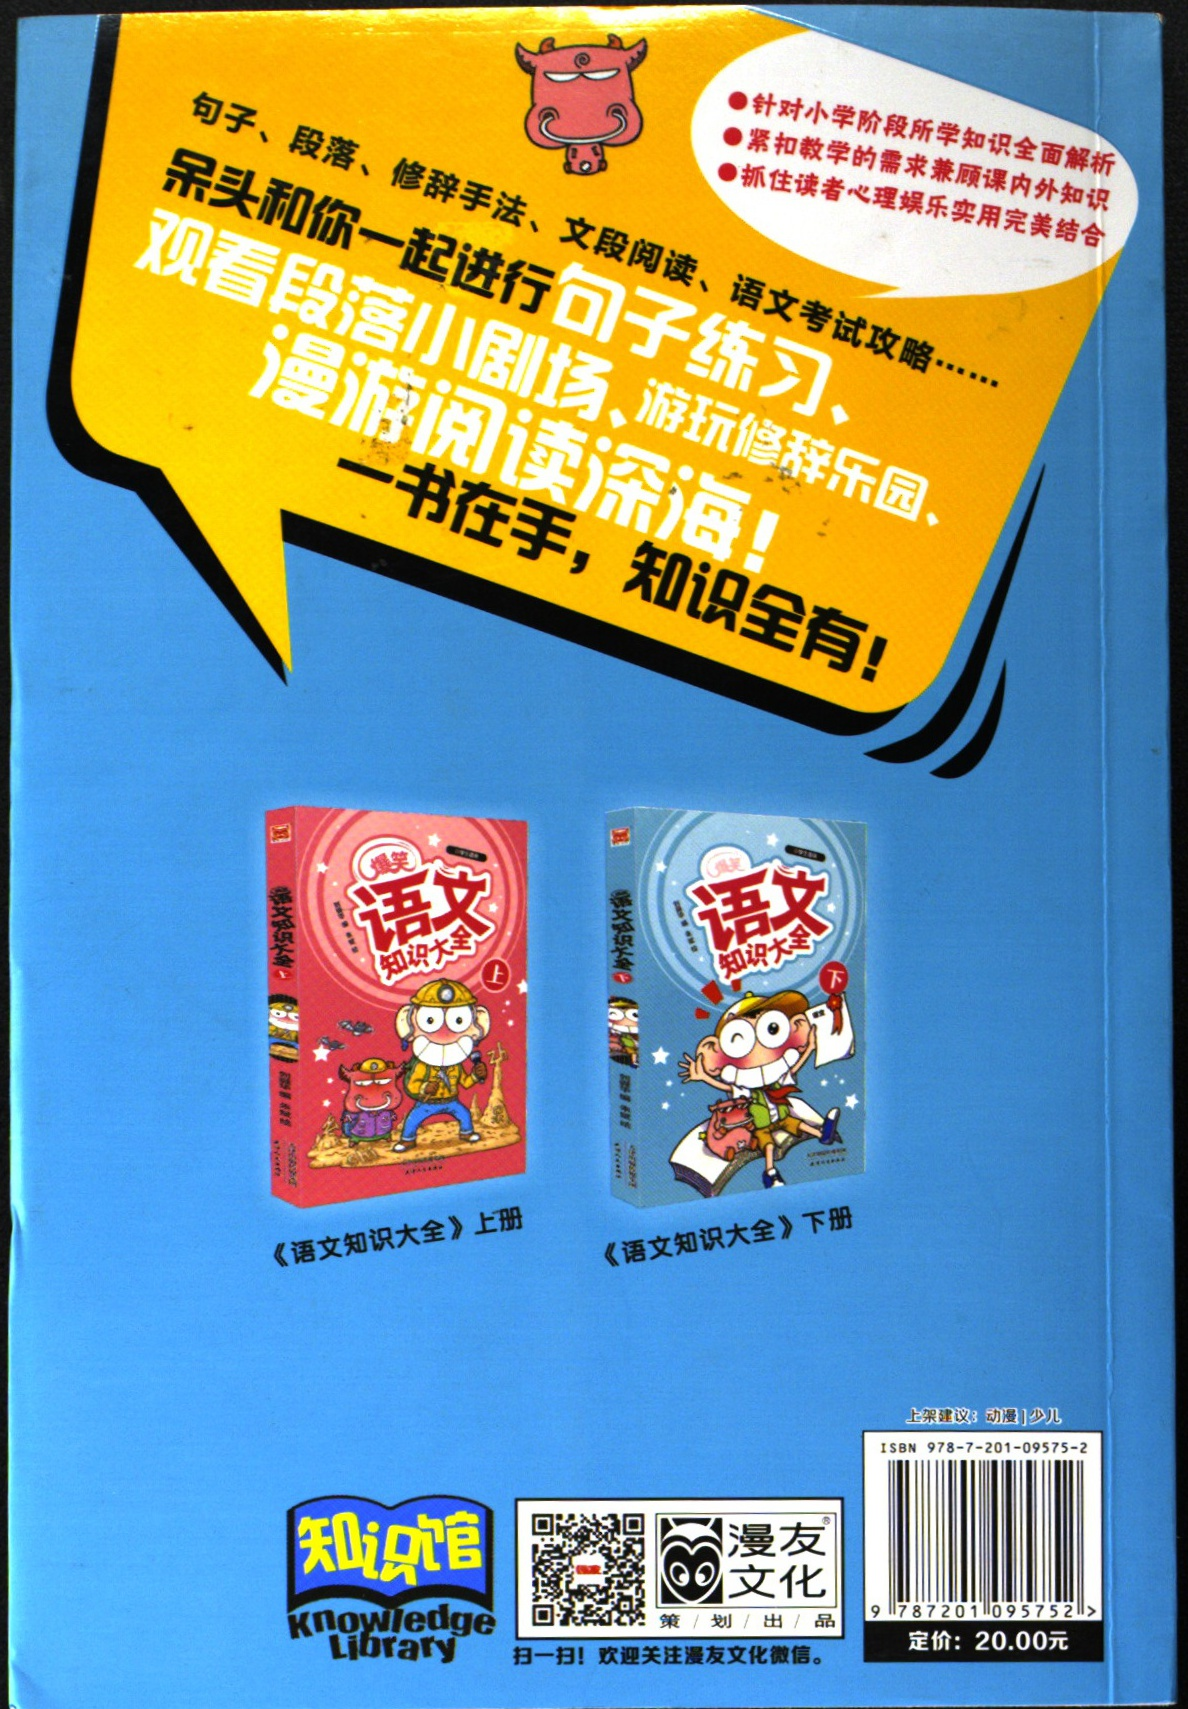barcode: (872, 1441, 1098, 1625)
